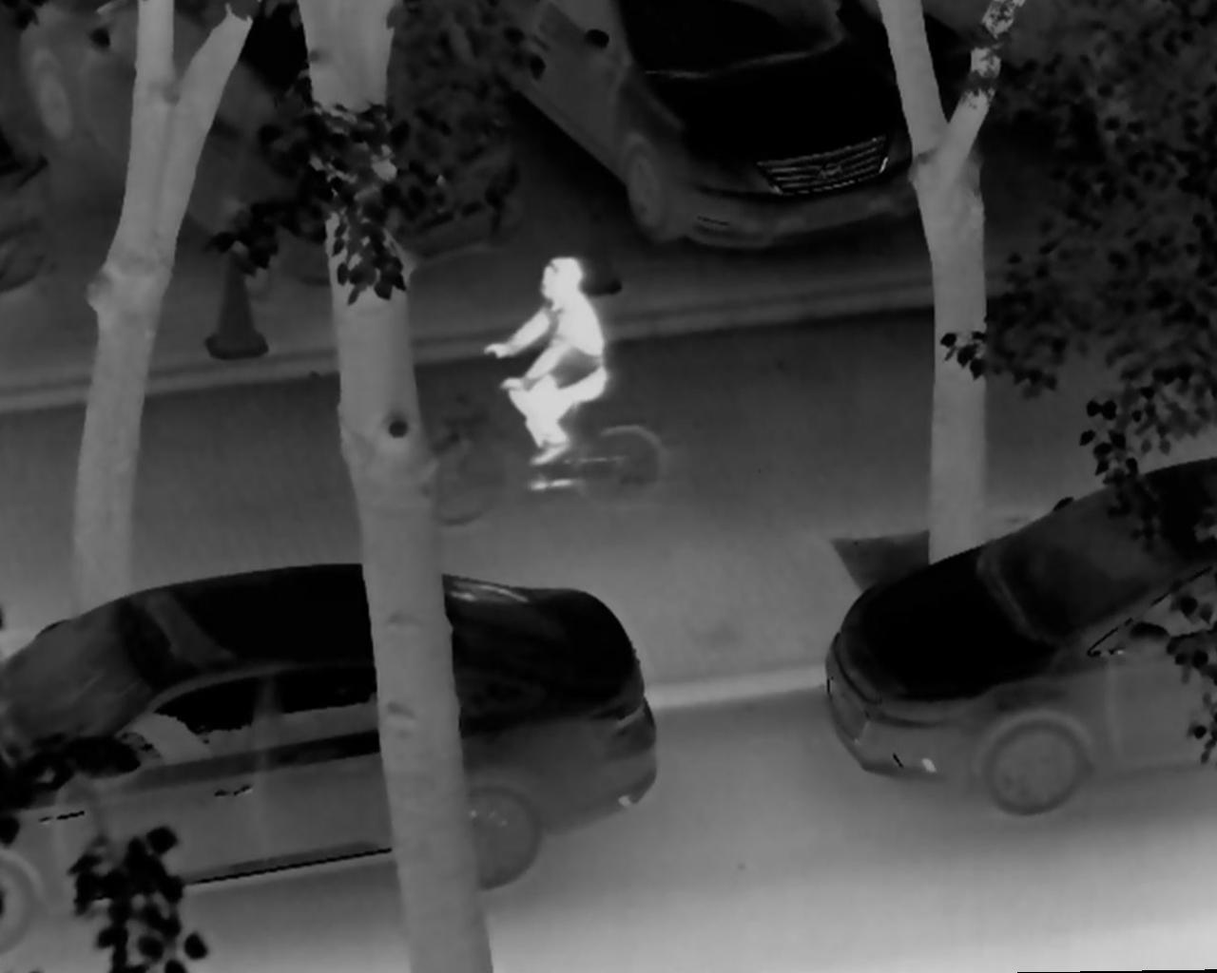person: (483, 256, 606, 499)
